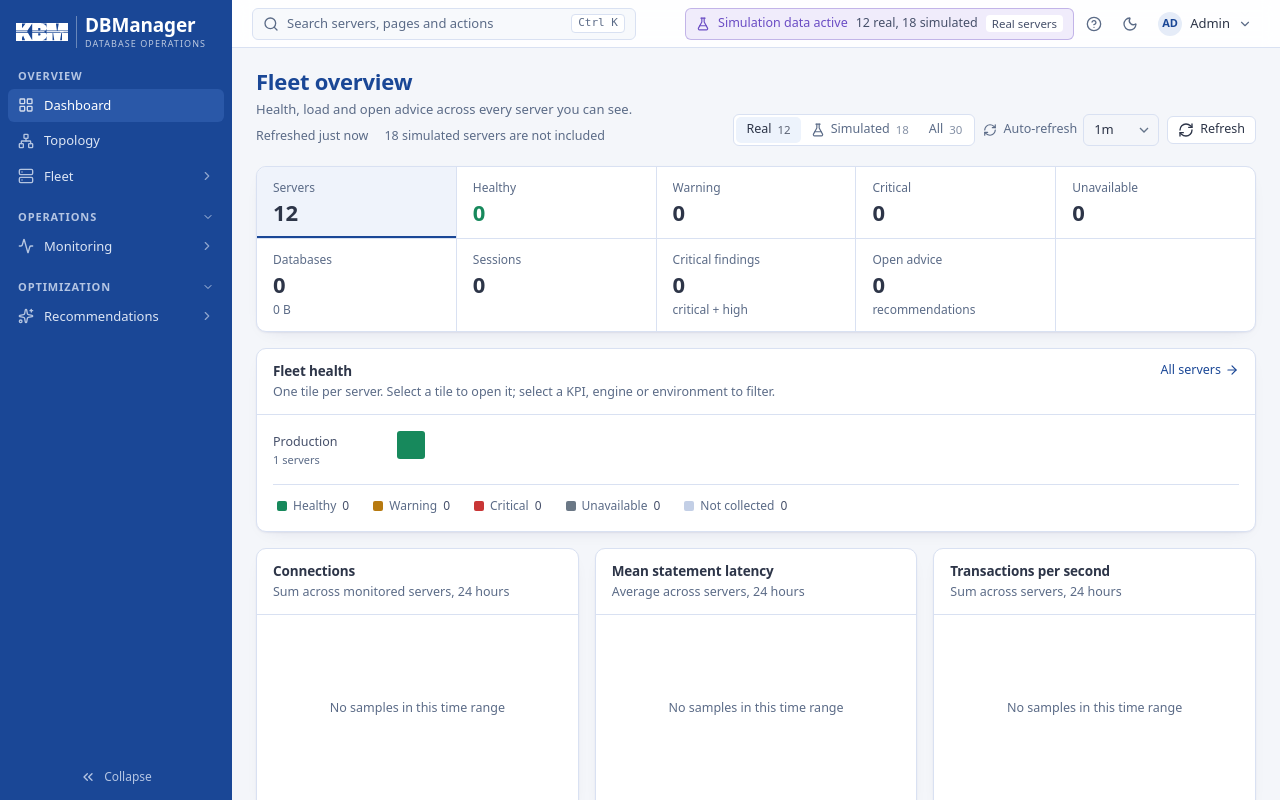
Test case: real / simulated distinction › shows the indicator and the dashboard filter when simulated servers exist
expect the text "Simulation data active" is shown: met, box [718,14,848,33]
expect the text "18 simulated servers are not included" is shown: met, box [384,127,605,146]
Click the radio button labelled "Simulated 18". click: (860, 130)
box: [801,117,919,143]
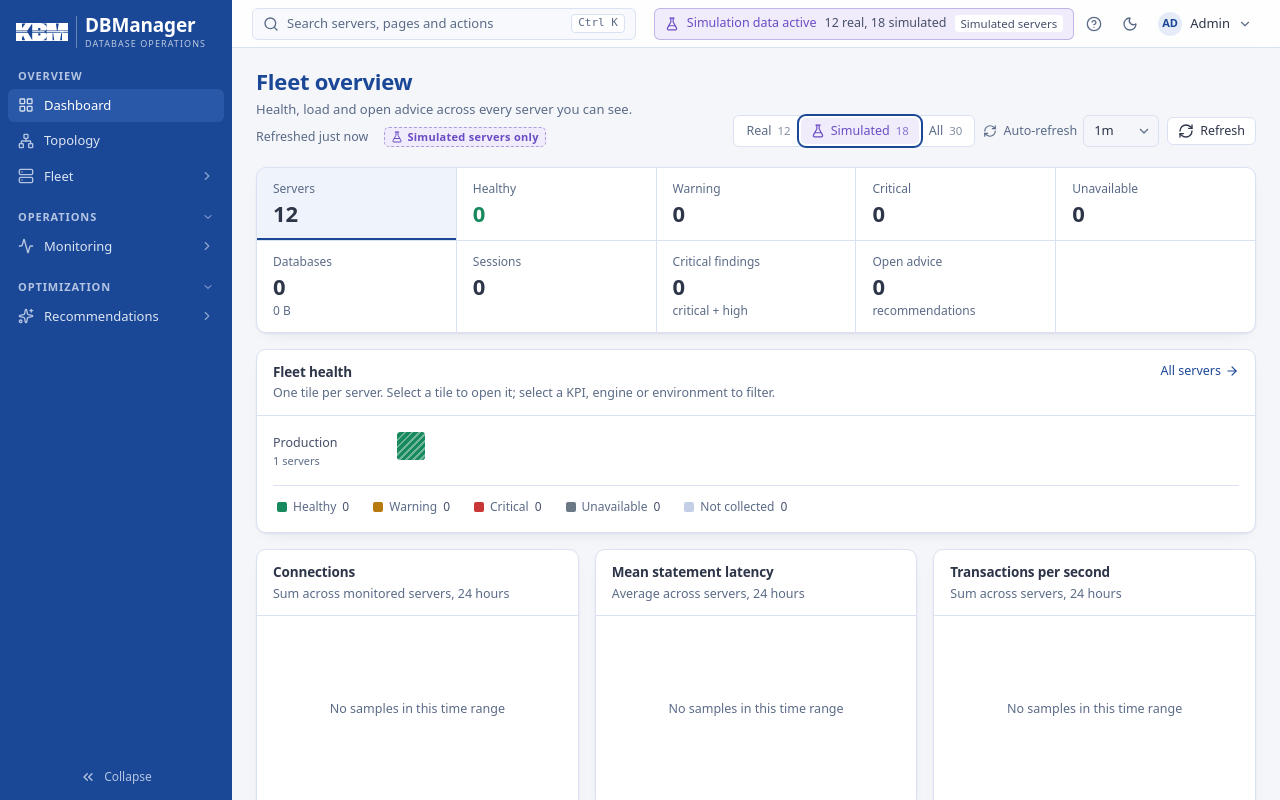
expect the button named "PG-PROD-01: Healthy (simulated)" is shown: met, box [397,432,425,460]
